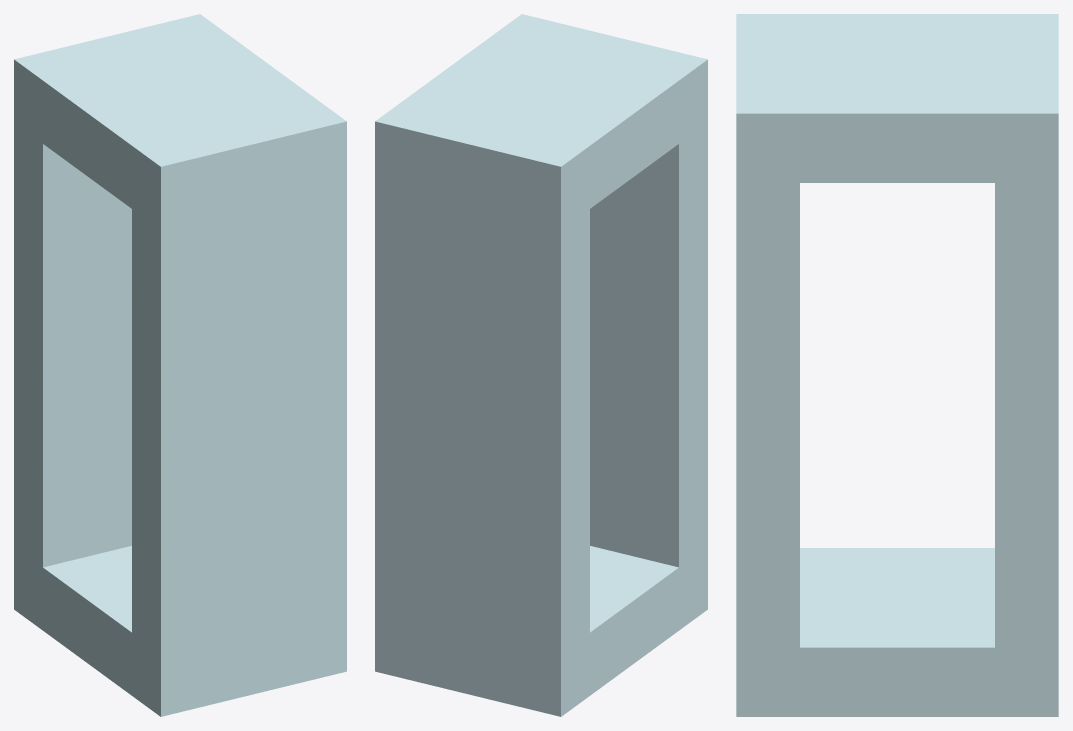
File: SS_Castle_Chain.fbx
The picture shows the model from 3 angles, left to right: view 1: azimuth 30°, elevation 25°; view 2: azimuth 150°, elevation 25°; view 3: azimuth 270°, elevation 25°; orthographic projection. The views are drawn at different scales.
Parts seen in each view (by area): view 1: Castle_Chain; view 2: Castle_Chain; view 3: Castle_Chain.
Part boxes in pixels (bbox=[...]): Castle_Chain: bbox=[14, 14, 346, 716]; Castle_Chain: bbox=[375, 14, 707, 716]; Castle_Chain: bbox=[736, 14, 1058, 716].
Bounding box in the file's own units: 0.1769 × 0.4997 × 0.2417.
